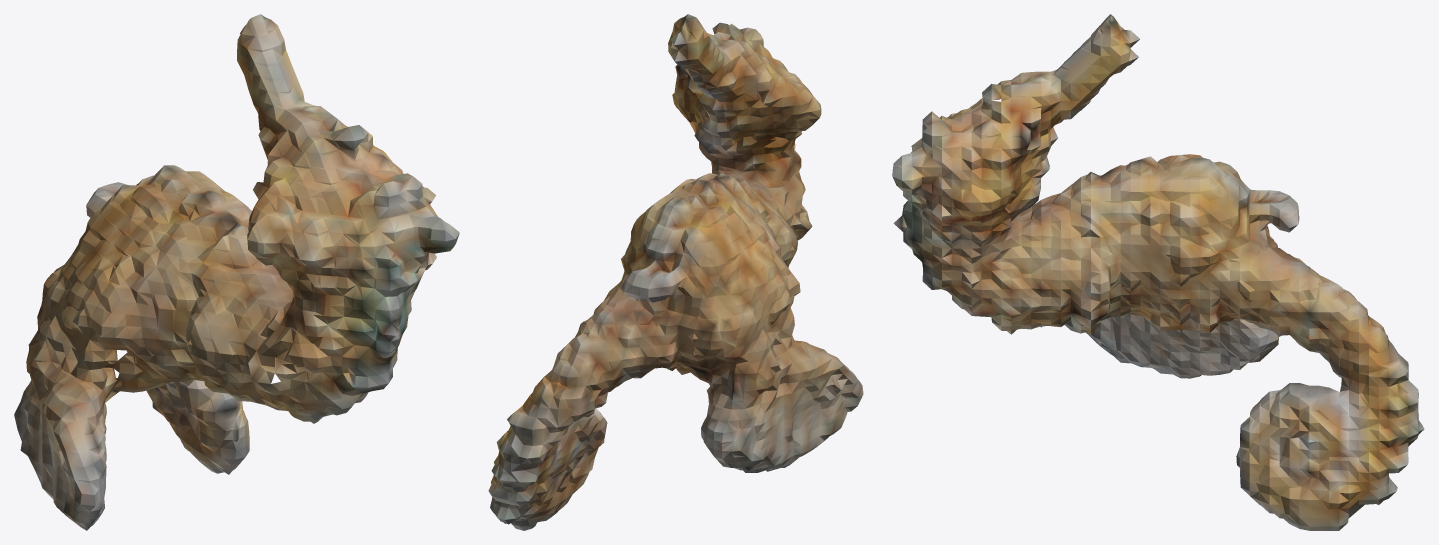
The picture shows the model from 3 angles, left to right: view 1: azimuth 30°, elevation 25°; view 2: azimuth 150°, elevation 25°; view 3: azimuth 270°, elevation 25°; orthographic projection. The views are drawn at different scales.
Parts seen in each view (by area): view 1: world; view 2: world; view 3: world.
Part boxes in pixels (x1,y1,x2,y2): world: (14, 14, 459, 530); world: (488, 14, 863, 530); world: (892, 14, 1424, 530).
Bounding box in the file's own units: 0.5475 × 0.9783 × 0.9812.
